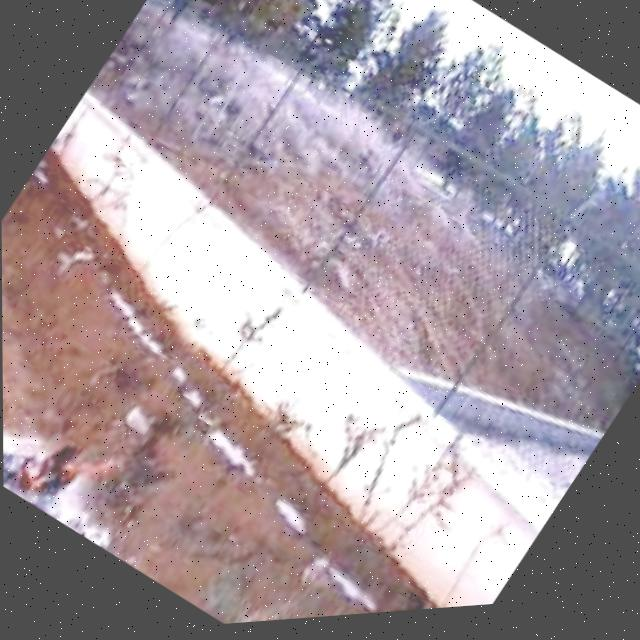Fire: (2, 396, 132, 534)
